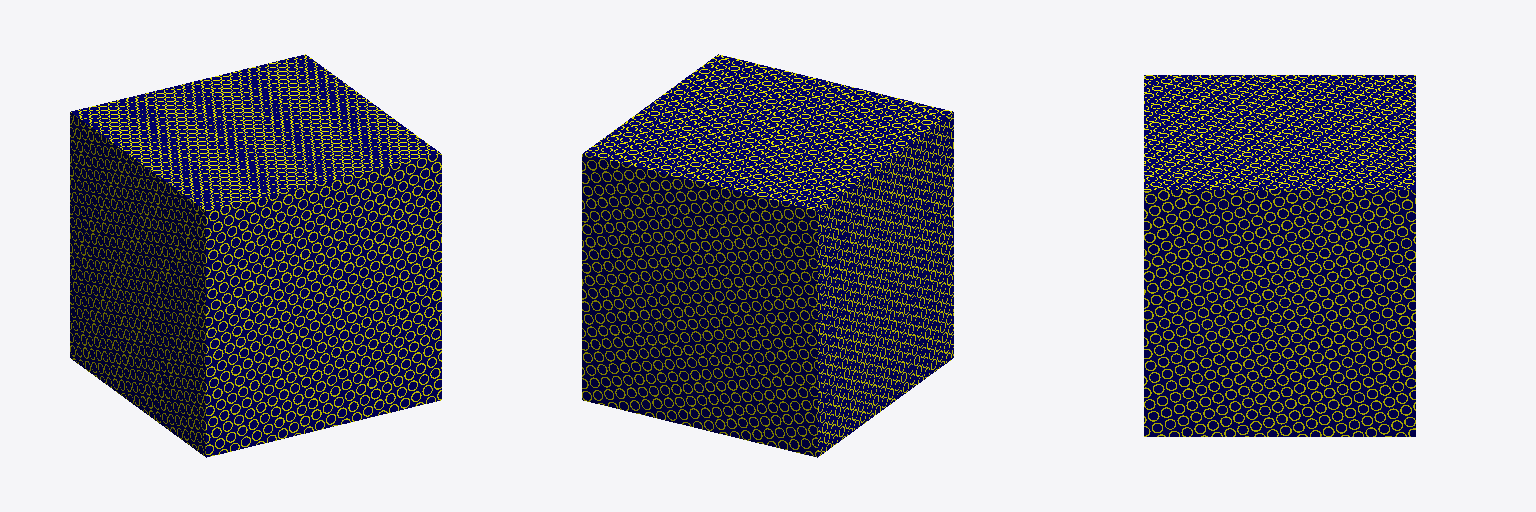
3 renders of one model, left to right at view 1: azimuth 30°, elevation 25°; view 2: azimuth 150°, elevation 25°; view 3: azimuth 270°, elevation 25°, orthographic.
Parts seen in each view (by area): view 1: pCube1; view 2: pCube1; view 3: pCube1.
Boxes of the visible parts, x1,y1,x2,y2 form: pCube1: [70, 54, 441, 457]; pCube1: [582, 54, 953, 457]; pCube1: [1144, 75, 1415, 436].
Bounding box in the file's own units: 1 × 1 × 1.
Materials: 1 (1 with a texture image).